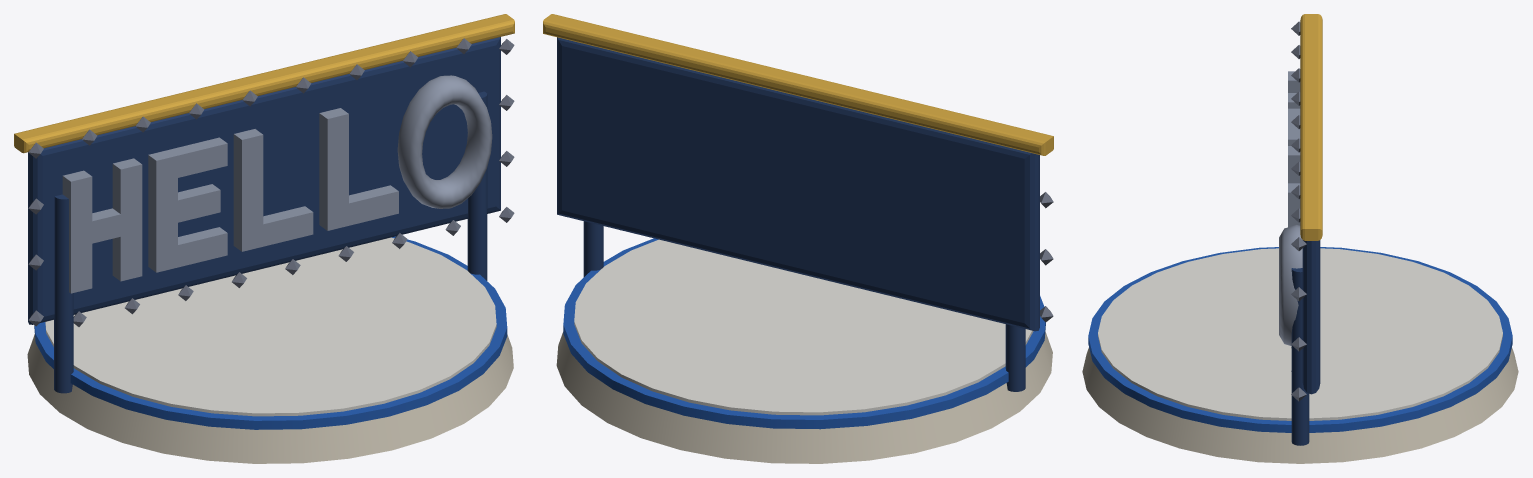
File: helloSign.glb
The picture shows the model from 3 angles, left to right: view 1: azimuth 30°, elevation 25°; view 2: azimuth 150°, elevation 25°; view 3: azimuth 270°, elevation 25°; orthographic projection. The views are drawn at different scales.
Parts seen in each view (by area): view 1: part_000, part_002, part_005, part_001, part_003, part_004; view 2: part_000; view 3: part_000, part_005.
Part boxes in pixels (x1=…): part_000: x1=14, y1=14, x2=514, y2=463; part_002: x1=148, y1=137, x2=227, y2=272; part_005: x1=397, y1=75, x2=492, y2=208; part_001: x1=62, y1=158, x2=142, y2=293; part_003: x1=233, y1=129, x2=313, y2=251; part_004: x1=319, y1=108, x2=398, y2=230; part_000: x1=543, y1=14, x2=1053, y2=463; part_000: x1=1082, y1=14, x2=1518, y2=463; part_005: x1=1279, y1=225, x2=1302, y2=345.
Size of the model in its own units: 6.9 by 3.75 by 5.92.
